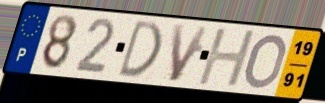2: (71, 16, 116, 74)
8: (40, 13, 78, 71)
D: (115, 18, 164, 79)
H: (195, 27, 259, 88)
O: (242, 32, 289, 91)
V: (168, 23, 212, 84)
